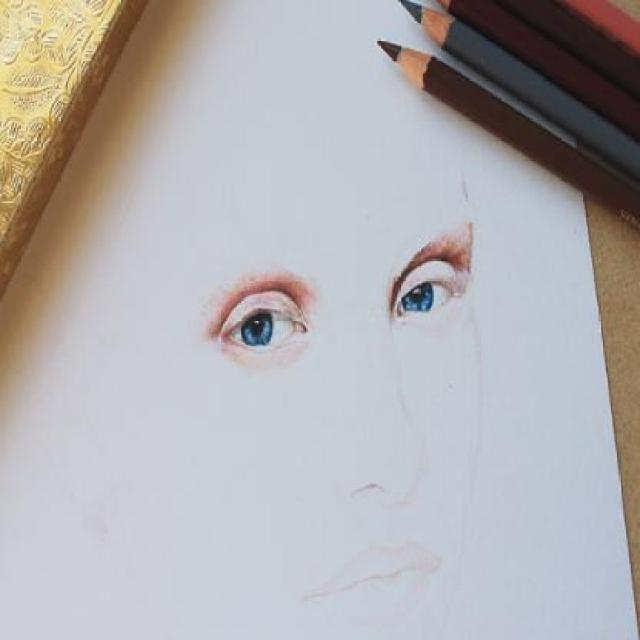Pencil: (368, 36, 442, 101), (396, 0, 470, 54)
